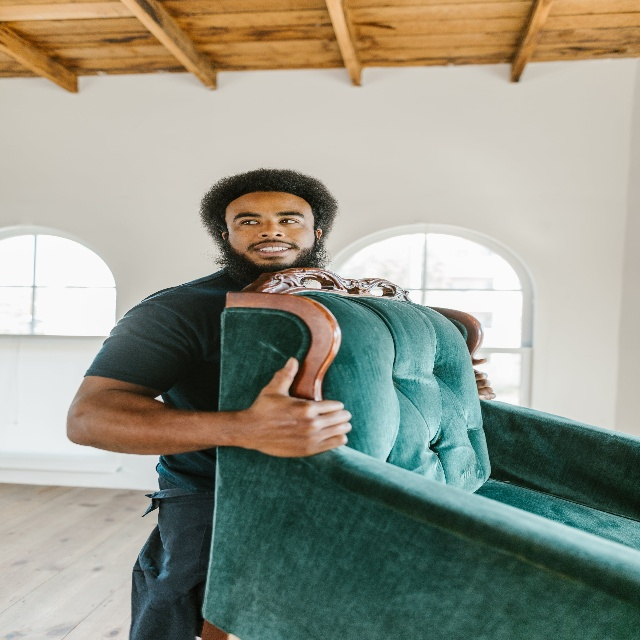Sin_guantes: (250, 357, 353, 458), (472, 357, 496, 400)
